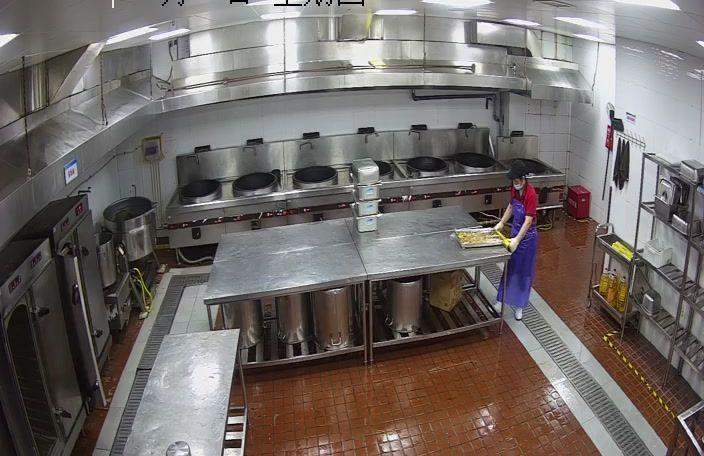apron: (511, 236, 521, 253), (494, 218, 506, 231)
mask: (512, 177, 527, 196)
